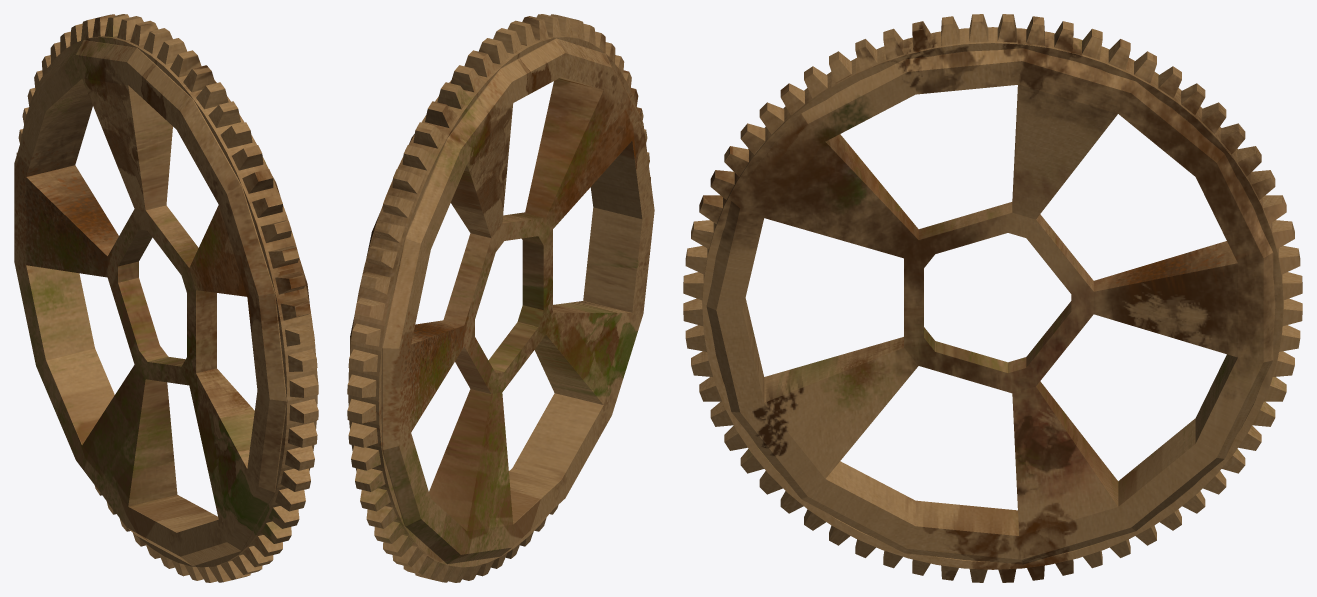
The model's file is engranananaan.fbx.
3 renders of one model, left to right at view 1: azimuth 30°, elevation 25°; view 2: azimuth 150°, elevation 25°; view 3: azimuth 270°, elevation 25°, orthographic. The views are drawn at different scales.
Visible parts, largest first — view 1: Engranaje; view 2: Engranaje; view 3: Engranaje.
Boxes of the visible parts, left/top/right/bottom form: Engranaje: left=14, top=14, right=318, bottom=582; Engranaje: left=347, top=14, right=654, bottom=582; Engranaje: left=683, top=14, right=1302, bottom=582.
Bounding box in the file's own units: 56.59 × 577 × 577.
